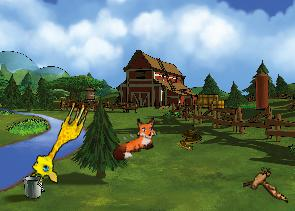eagle: (241, 165, 289, 203)
fox: (104, 113, 164, 163)
giraffe: (27, 94, 91, 188)
